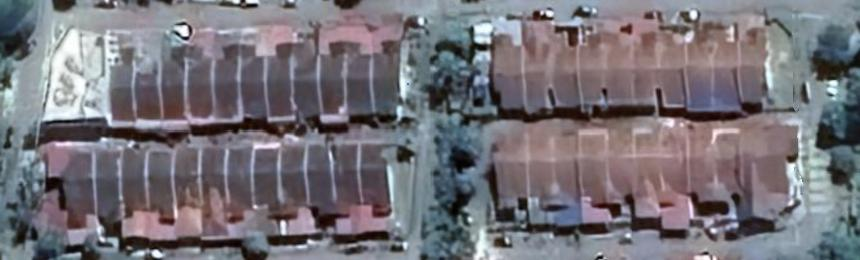building: (738, 122, 800, 226), (42, 138, 100, 231), (487, 32, 531, 114), (490, 127, 532, 212), (521, 17, 556, 118), (119, 137, 152, 244), (659, 125, 691, 234), (368, 37, 405, 124), (202, 140, 232, 245), (631, 126, 664, 221), (174, 139, 203, 244), (151, 138, 179, 246), (737, 25, 772, 108), (683, 27, 715, 116), (579, 126, 612, 210), (604, 28, 638, 109), (712, 26, 742, 117), (315, 38, 347, 123), (552, 27, 584, 109), (287, 39, 319, 121), (341, 36, 372, 119), (364, 136, 394, 221), (104, 44, 135, 125), (687, 123, 716, 208), (236, 40, 265, 124), (182, 42, 211, 126), (99, 137, 126, 227), (283, 138, 312, 221), (209, 42, 238, 125), (156, 43, 185, 126), (262, 41, 291, 123), (714, 122, 741, 210), (610, 125, 638, 207), (257, 140, 285, 221), (530, 125, 556, 212), (230, 142, 257, 225), (311, 138, 338, 221), (582, 29, 608, 110), (338, 136, 363, 220), (660, 28, 685, 109), (556, 125, 578, 211), (636, 29, 659, 111), (130, 70, 158, 125)
